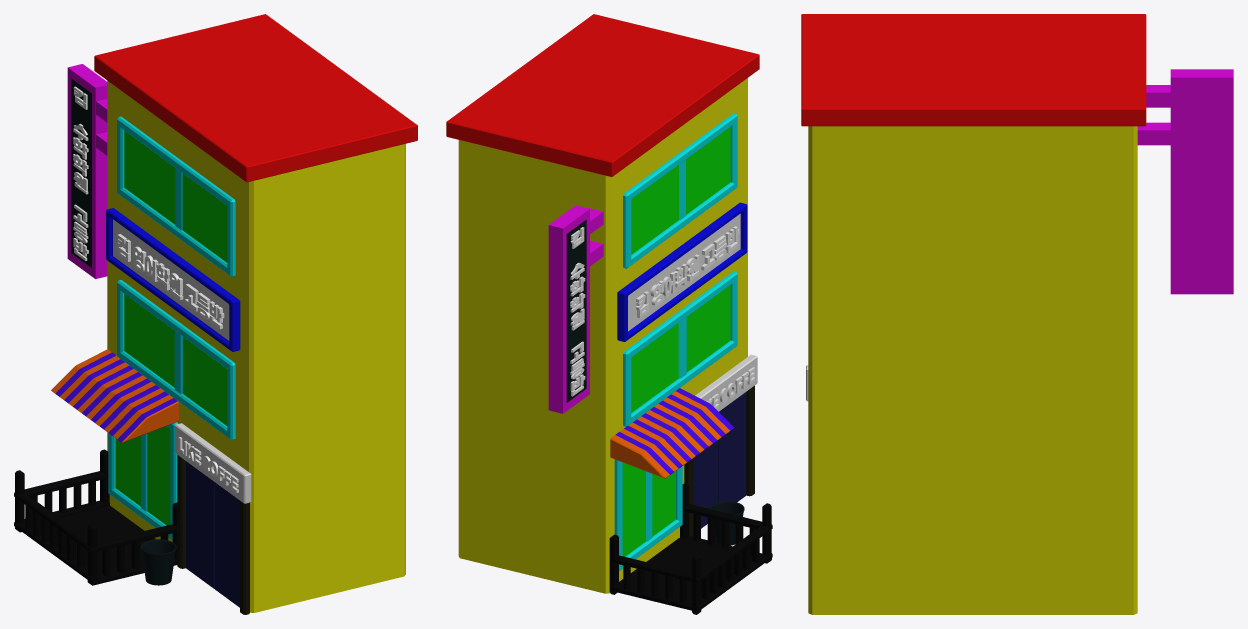
Rendered from Building_3.fbx.
3 views of the same model, side by side, from view 1: azimuth 30°, elevation 25°; view 2: azimuth 150°, elevation 25°; view 3: azimuth 270°, elevation 25° (orthographic). The views are drawn at different scales.
Parts seen in each view (by area): view 1: polySurface1485, polySurface1472, polySurface1454, typeMesh11, polySurface1460, typeMesh12, typeMesh13; view 2: polySurface1485, polySurface1472, polySurface1454, typeMesh11, typeMesh12, polySurface1460, typeMesh13; view 3: polySurface1485, polySurface1472.
Part boxes in pixels (box(x1,y1,x2,y2)): polySurface1485: box(14, 14, 417, 614); polySurface1472: box(67, 64, 107, 278); polySurface1454: box(106, 208, 240, 351); typeMesh11: box(117, 234, 224, 329); polySurface1460: box(175, 423, 251, 503); typeMesh12: box(73, 86, 88, 260); typeMesh13: box(178, 437, 238, 492); polySurface1485: box(446, 14, 772, 614); polySurface1472: box(548, 205, 589, 413); polySurface1454: box(617, 202, 747, 341); typeMesh11: box(636, 226, 739, 317); typeMesh12: box(570, 227, 585, 396); polySurface1460: box(695, 354, 757, 411); typeMesh13: box(706, 367, 755, 408); polySurface1485: box(801, 14, 1170, 614); polySurface1472: box(1170, 69, 1233, 294).
Size of the model in its own units: 147 by 246 by 189.
